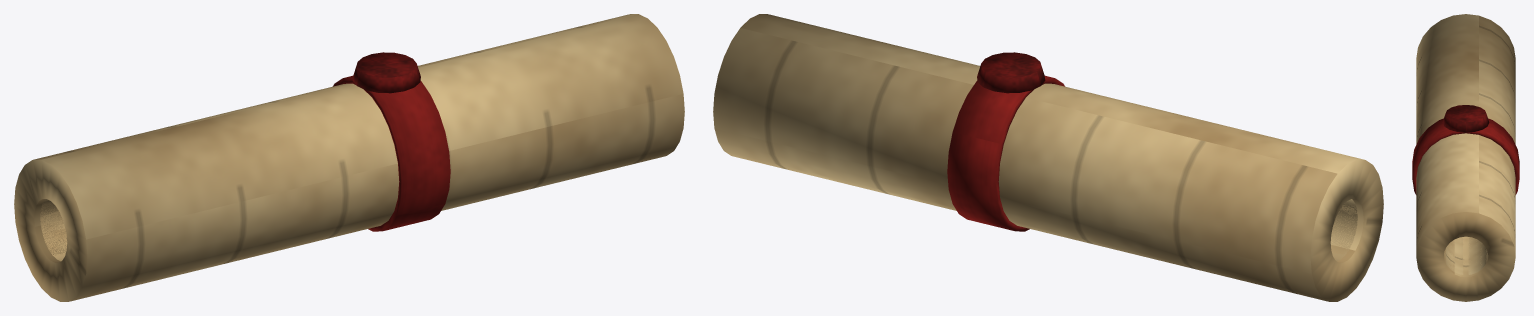
The model's file is treasuremap.glb.
The picture shows the model from 3 angles, left to right: view 1: azimuth 30°, elevation 25°; view 2: azimuth 150°, elevation 25°; view 3: azimuth 270°, elevation 25°; orthographic projection. The views are drawn at different scales.
Visible parts, largest first — view 1: roll, ribbon, seal, inner; view 2: roll, ribbon, seal, inner; view 3: roll, ribbon, inner, seal.
Part boxes in pixels (box(x1,y1,x2,y2)): roll: box(14, 14, 684, 301); ribbon: box(333, 75, 450, 231); seal: box(352, 52, 420, 93); inner: box(40, 199, 67, 261); roll: box(713, 14, 1383, 301); ribbon: box(947, 75, 1064, 231); seal: box(977, 52, 1045, 93); inner: box(1330, 199, 1357, 261); roll: box(1416, 14, 1515, 301); ribbon: box(1412, 118, 1519, 194); inner: box(1443, 237, 1488, 274); seal: box(1442, 105, 1489, 132).
Size of the model in its own units: 0.32 by 0.0796 by 0.0734.
Materials: 3 (3 with a texture image).
